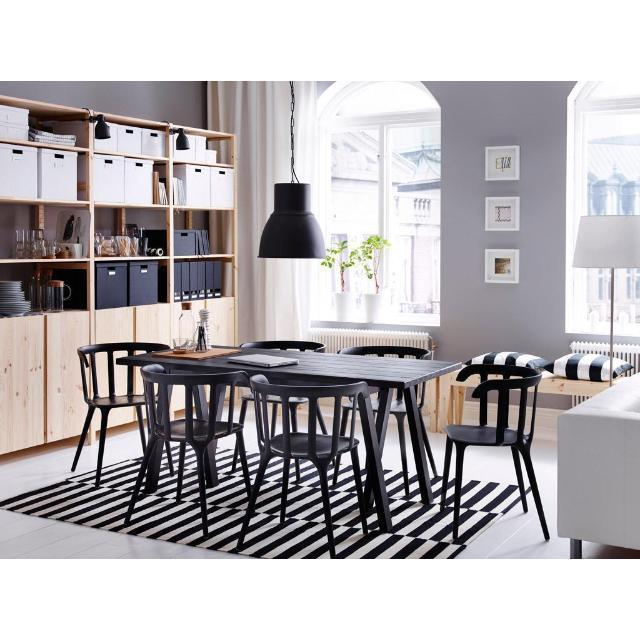chair: (236, 375, 369, 558), (125, 365, 251, 538), (440, 366, 550, 540), (71, 342, 169, 488)
couch: (558, 374, 640, 557)
curtain: (208, 81, 316, 342)
lamp: (573, 215, 640, 385)
light: (259, 81, 324, 258)
pillow: (551, 354, 610, 382), (466, 352, 550, 369), (612, 358, 634, 378)
plant: (355, 235, 391, 322), (321, 240, 356, 321), (356, 236, 391, 294), (321, 240, 356, 293)
rug: (0, 448, 248, 552), (330, 465, 520, 558), (240, 458, 329, 558)
shelf: (0, 95, 236, 453)
table: (120, 348, 461, 503)
vase: (332, 292, 355, 322), (364, 294, 384, 323)
wall-art: (485, 145, 520, 181), (485, 197, 519, 231), (485, 250, 519, 283)
